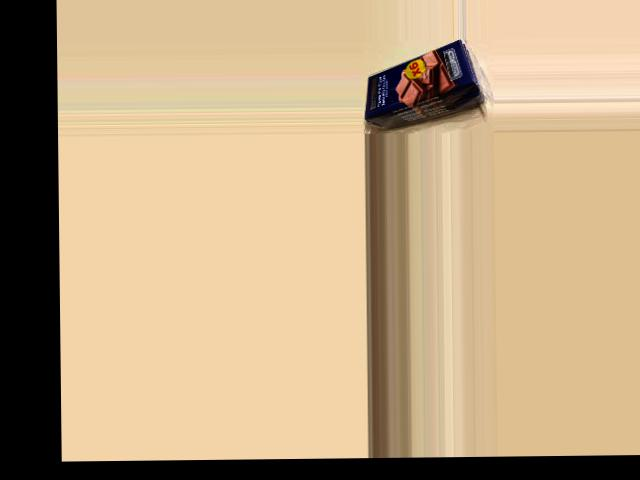chocolate: (363, 38, 476, 126)
